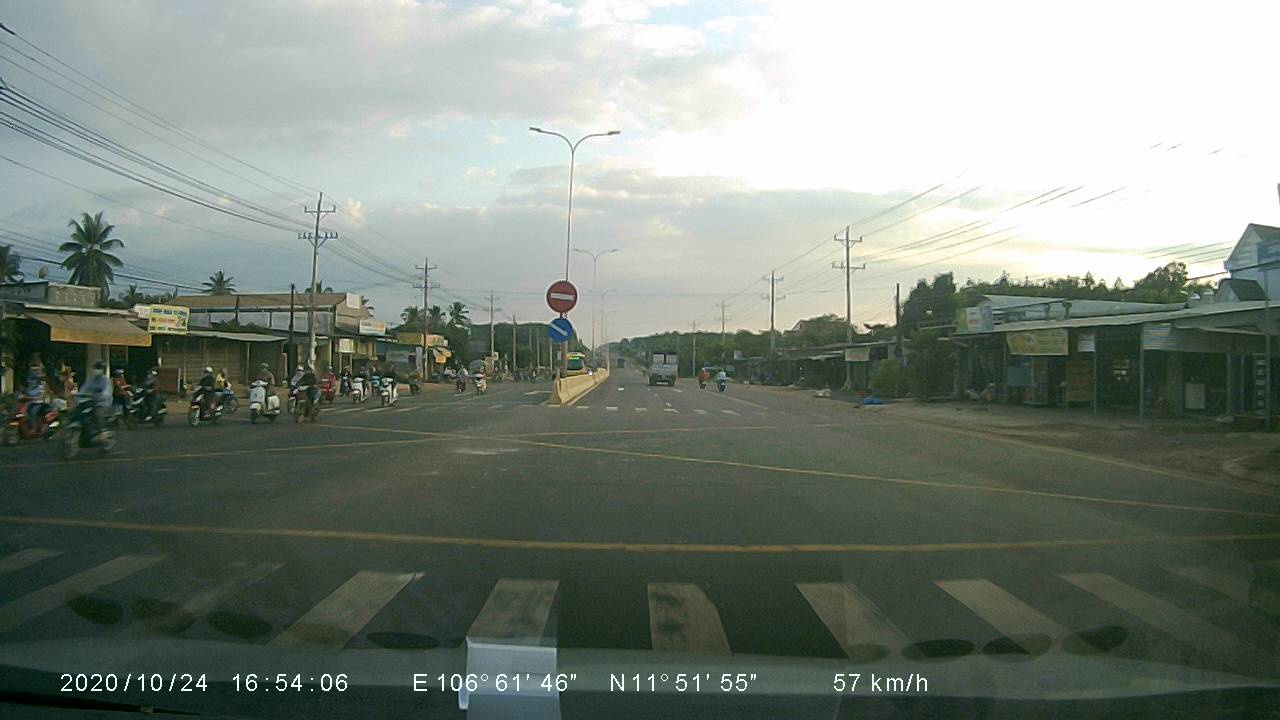Cam di nguoc chieu: (544, 275, 580, 314)
Huong di phai re phai: (544, 315, 573, 343)
